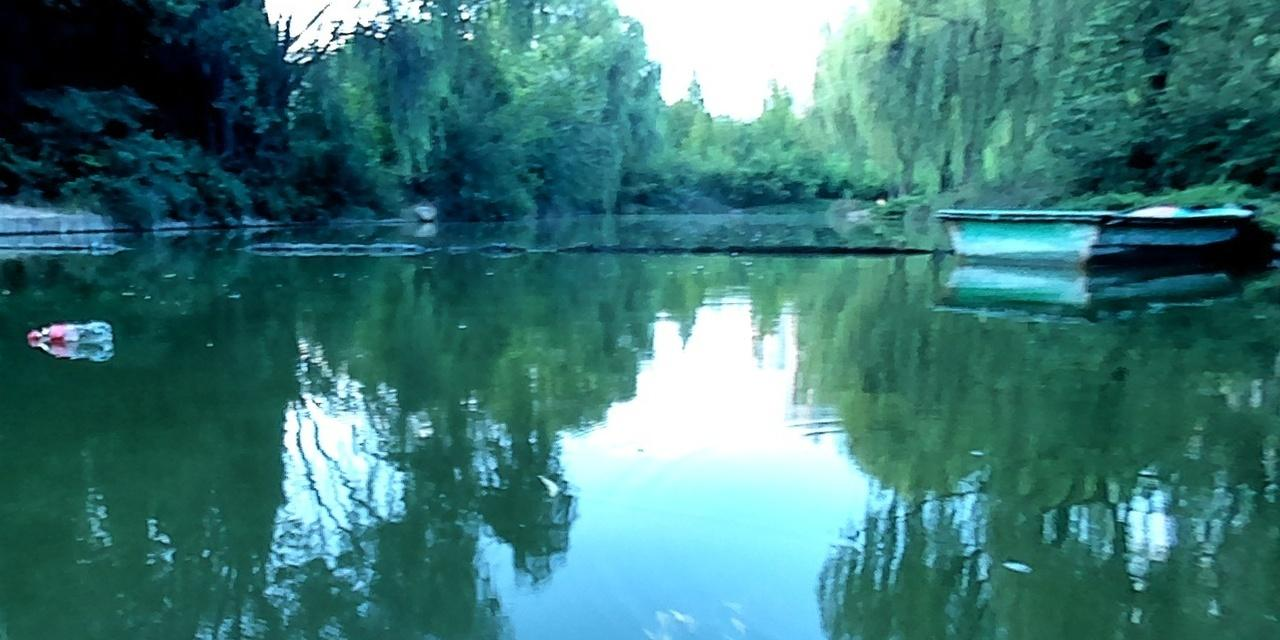bottle: (26, 318, 111, 344)
